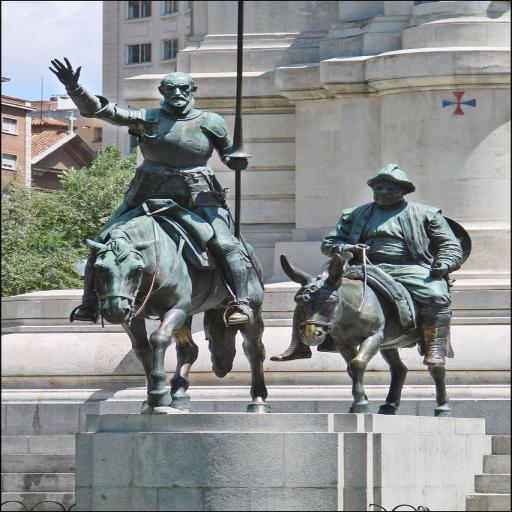horse: (86, 216, 274, 418), (279, 251, 450, 413)
